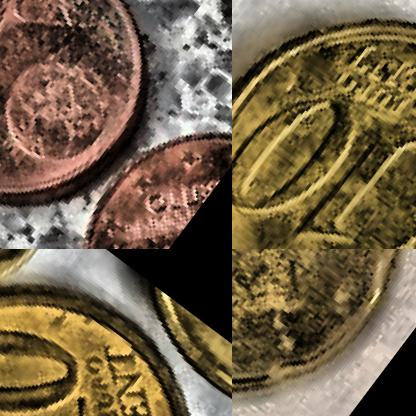coin: (0, 0, 195, 248), (232, 0, 415, 248), (0, 249, 231, 415), (232, 249, 415, 415)
